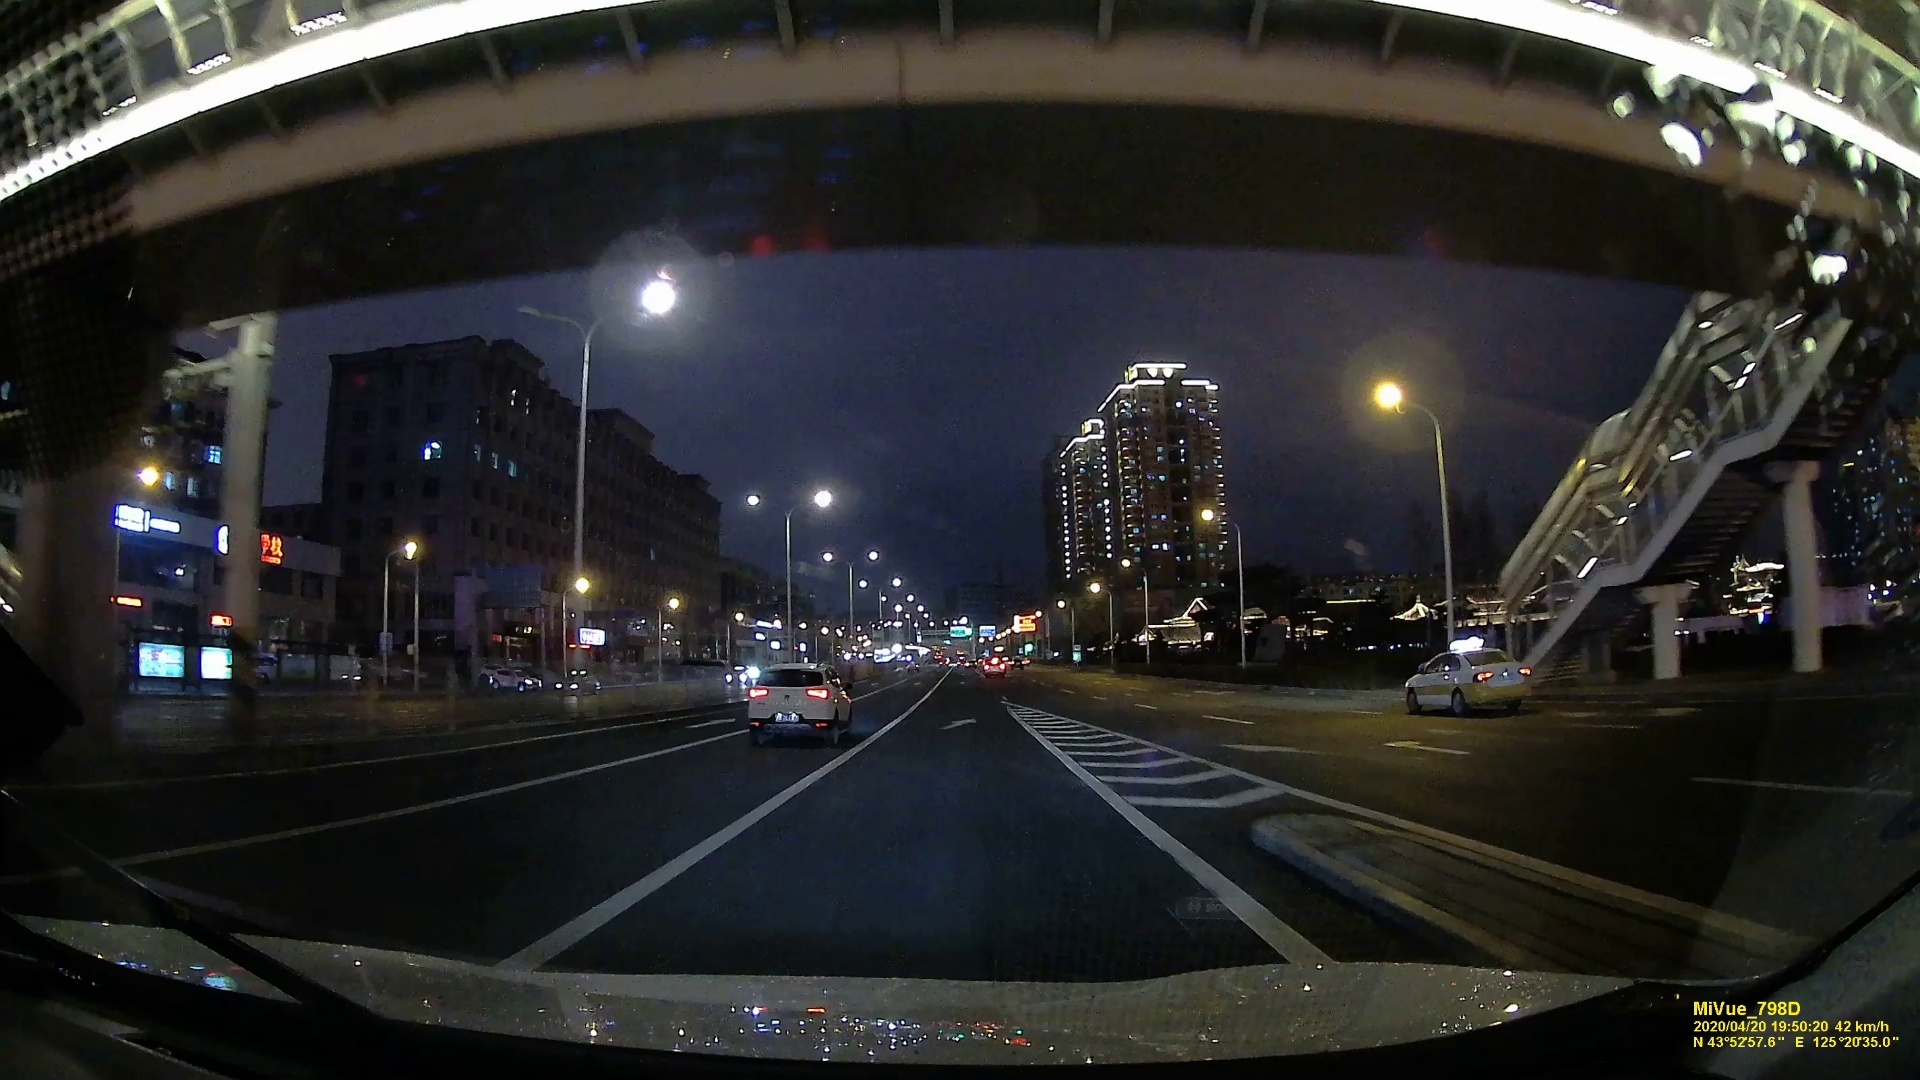vehicle: (745, 659, 857, 742), (1404, 647, 1536, 717), (555, 669, 600, 695), (984, 658, 1005, 676)
